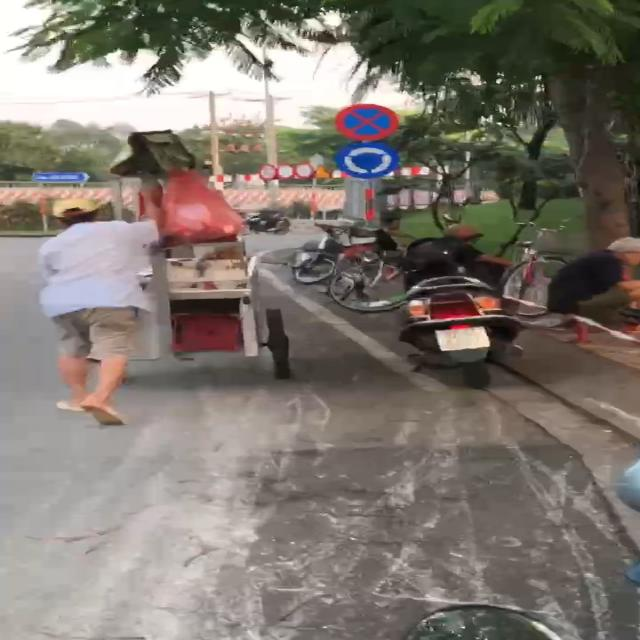Bien bao cam dung xe va do xe: (328, 100, 405, 142)
Bien bao noi giao nhau chay theo vong xuyen: (337, 144, 398, 181)
